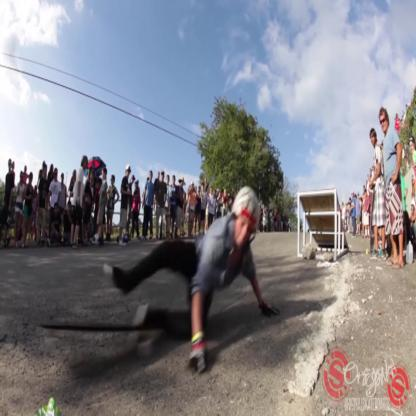Fall_Down: (100, 185, 282, 379)
